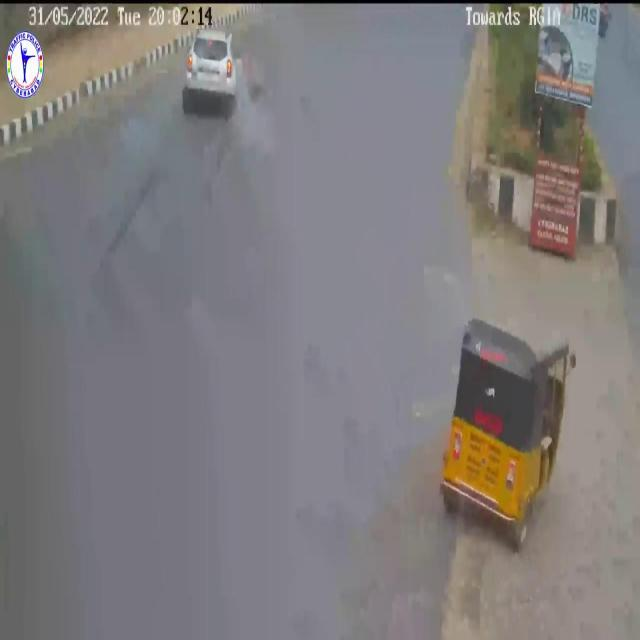accident: (173, 25, 265, 135)
